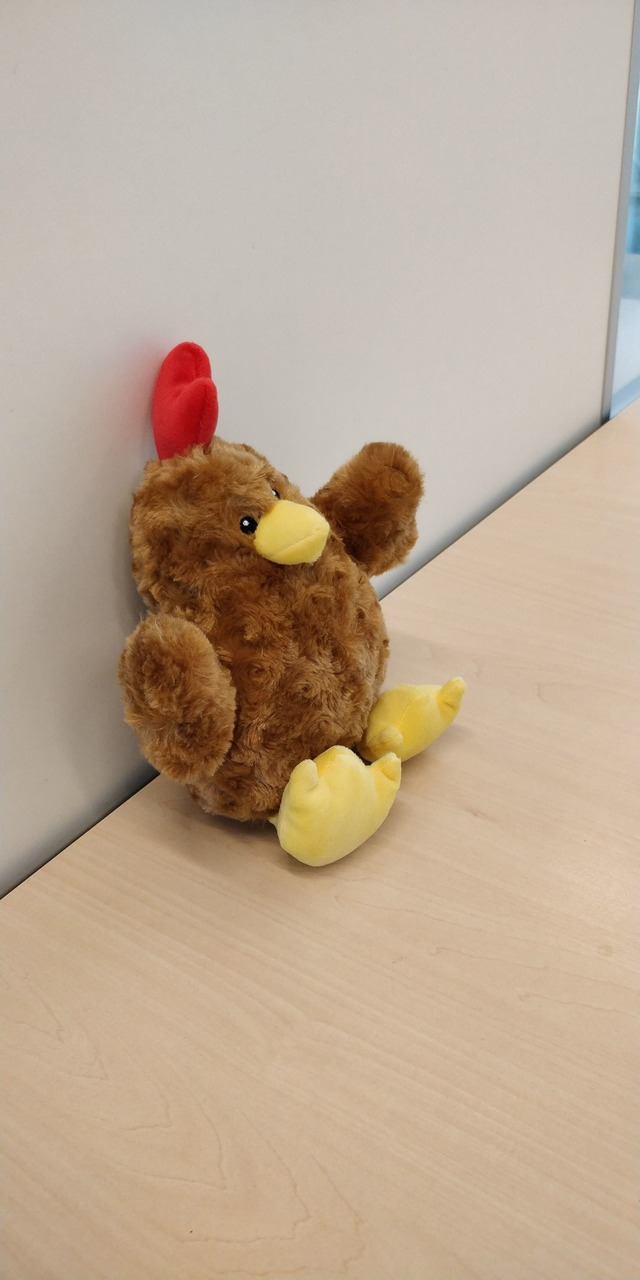fakeChicken: (116, 340, 472, 875)
